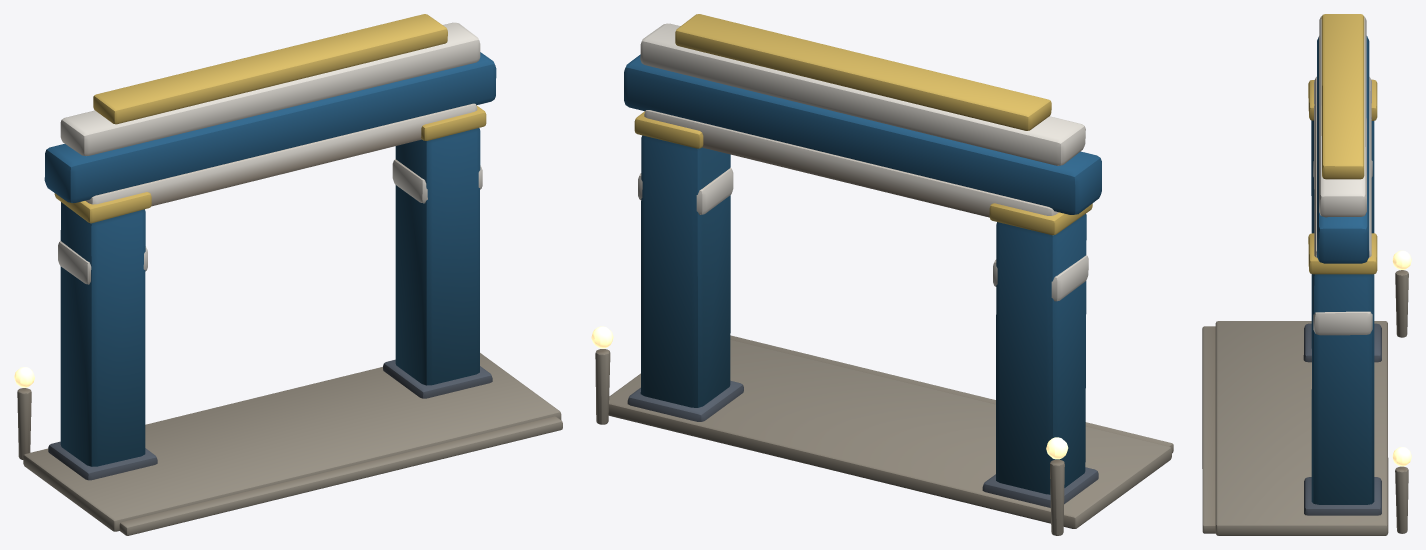
3 views of the same model, side by side, from view 1: azimuth 30°, elevation 25°; view 2: azimuth 150°, elevation 25°; view 3: azimuth 270°, elevation 25° (orthographic). The views are drawn at different scales.
Parts seen in each view (by area): view 1: gate_7facd363; view 2: gate_7facd363; view 3: gate_7facd363.
Part boxes in pixels (<box>): gate_7facd363: <box>14,14,562,535</box>; gate_7facd363: <box>591,14,1173,535</box>; gate_7facd363: <box>1202,14,1411,535</box>.
Size of the model in its own units: 5.92 by 4.65 by 2.55.
